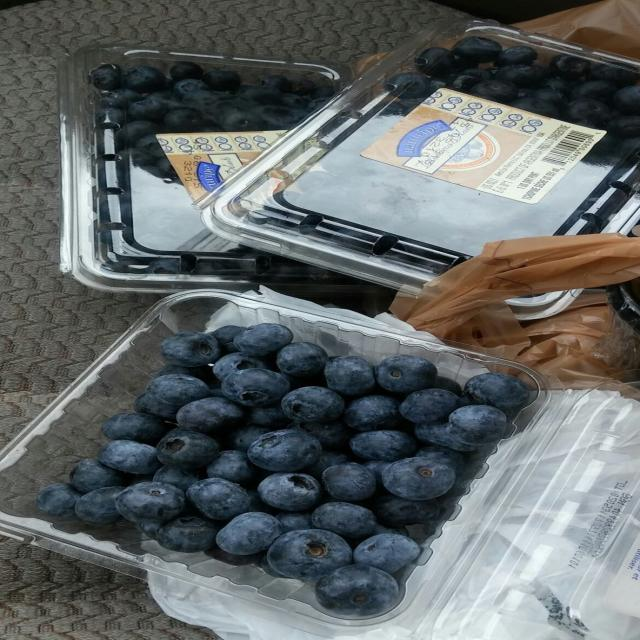blueberry: (267, 529, 352, 581), (315, 565, 399, 616), (383, 457, 455, 500), (247, 430, 321, 471), (115, 482, 185, 522), (216, 513, 282, 554), (464, 373, 530, 412), (187, 479, 249, 520), (354, 534, 419, 573), (157, 429, 219, 469), (222, 369, 289, 406), (177, 398, 244, 435), (258, 473, 322, 511), (374, 355, 436, 393), (448, 405, 506, 445), (312, 503, 375, 539), (155, 517, 218, 552), (282, 387, 344, 422), (343, 395, 403, 431), (99, 440, 161, 474), (102, 413, 167, 445), (322, 463, 376, 501), (374, 495, 439, 526), (160, 332, 219, 366), (325, 356, 375, 395), (234, 323, 293, 356), (350, 431, 417, 460), (147, 375, 209, 406), (400, 389, 458, 422), (69, 460, 128, 492), (75, 486, 124, 524), (414, 422, 477, 451), (277, 343, 328, 377), (292, 422, 353, 450), (174, 90, 229, 120), (207, 451, 255, 484), (213, 352, 268, 380), (36, 483, 81, 517), (414, 47, 464, 76), (416, 445, 465, 474), (134, 393, 179, 422), (383, 72, 433, 98), (303, 452, 351, 479), (453, 37, 502, 63), (122, 66, 166, 93), (154, 467, 200, 492), (471, 79, 518, 103), (495, 65, 546, 87), (229, 425, 272, 451), (116, 121, 159, 147), (446, 68, 491, 92), (588, 65, 639, 86), (207, 547, 263, 566), (164, 108, 207, 132), (550, 54, 590, 79), (512, 96, 559, 117), (570, 80, 617, 101), (210, 325, 245, 353), (117, 147, 155, 172), (220, 110, 265, 131), (247, 406, 289, 428), (127, 99, 167, 121), (495, 46, 537, 66), (91, 64, 122, 91), (237, 85, 281, 104), (135, 135, 165, 162), (246, 489, 277, 515), (202, 70, 240, 91), (100, 90, 142, 109), (607, 115, 640, 138), (530, 87, 566, 108), (276, 512, 313, 532), (146, 91, 181, 112), (614, 86, 639, 114), (169, 61, 203, 81), (174, 78, 208, 98), (95, 108, 126, 129), (540, 78, 574, 97), (141, 258, 181, 274), (364, 461, 391, 484), (261, 74, 292, 94), (432, 376, 462, 396), (260, 555, 286, 577), (291, 78, 317, 98), (375, 524, 410, 537), (136, 522, 161, 539), (282, 94, 310, 109), (310, 85, 335, 99), (150, 259, 173, 273), (307, 98, 329, 112), (129, 474, 154, 485)
